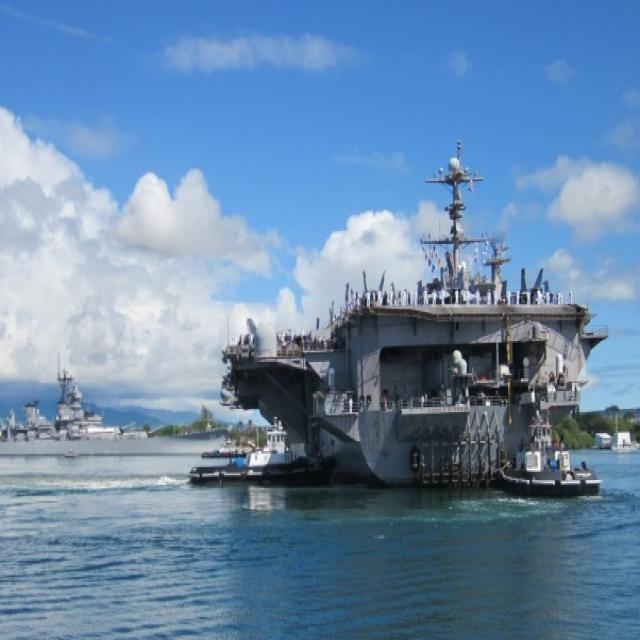Portanaves: (211, 127, 610, 496)
